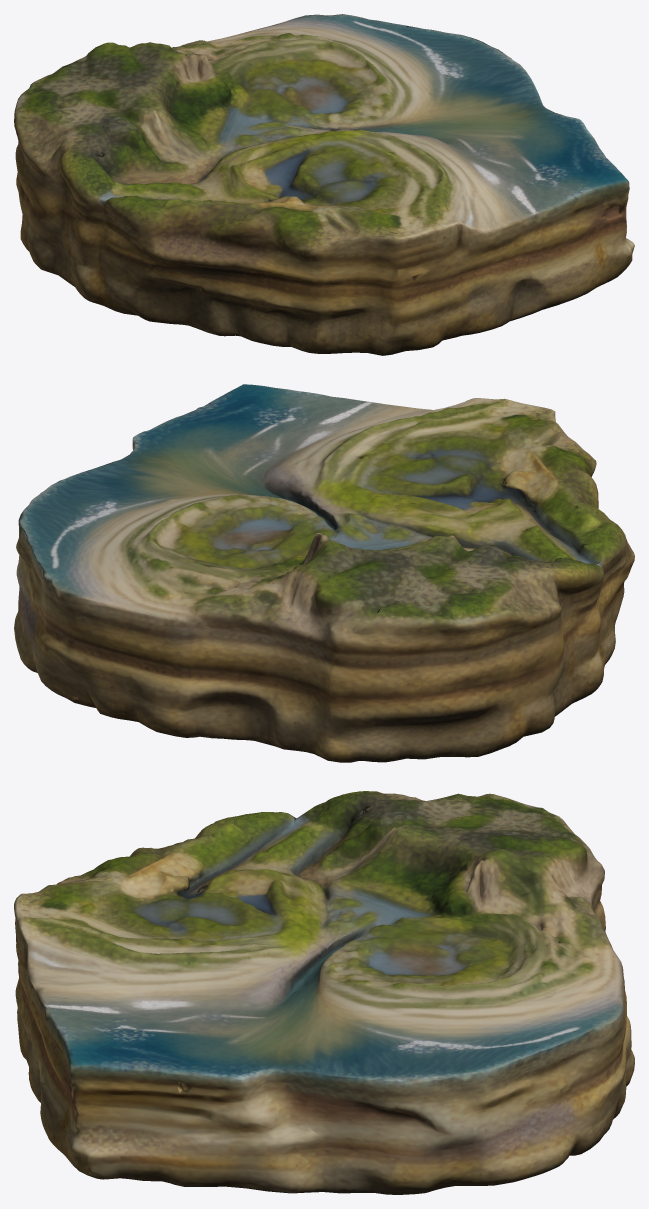
The picture shows the model from 3 angles, top to bottom: view 1: azimuth 30°, elevation 25°; view 2: azimuth 150°, elevation 25°; view 3: azimuth 270°, elevation 25°; orthographic projection. The views are drawn at different scales.
Visible parts, largest first — view 1: world; view 2: world; view 3: world.
Part boxes in pixels (x1=…): world: x1=14, y1=14, x2=634, y2=355; world: x1=14, y1=384, x2=634, y2=762; world: x1=14, y1=791, x2=634, y2=1194.
Bounding box in the file's own units: 30 × 9.75 × 29.77.
Materials: 1 (1 with a texture image).
